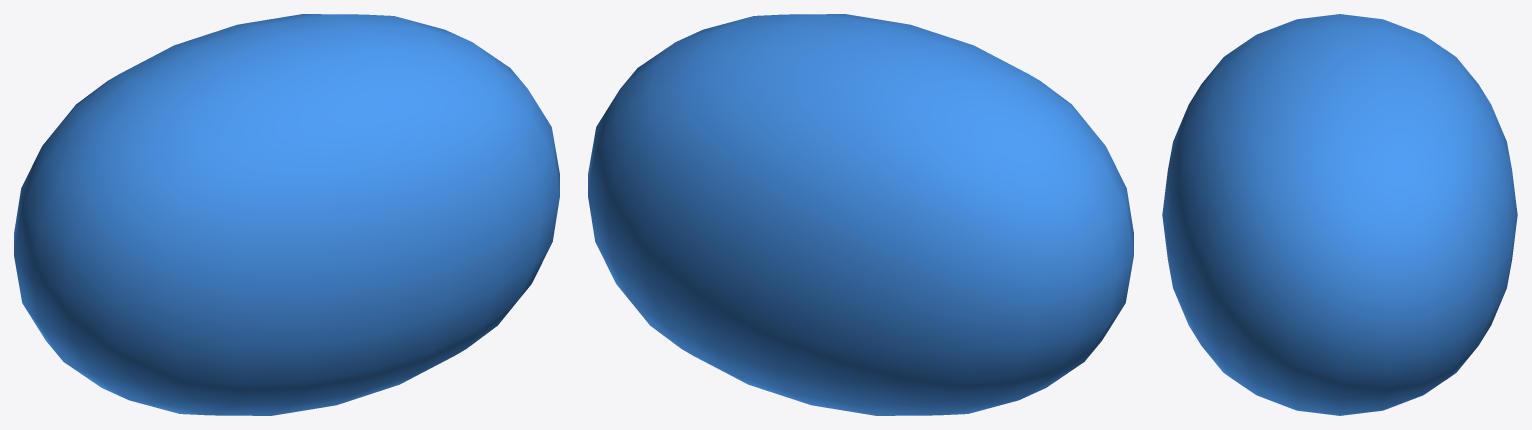
The model's file is Jellybean_02.fbx.
3 views of the same model, side by side, from view 1: azimuth 30°, elevation 25°; view 2: azimuth 150°, elevation 25°; view 3: azimuth 270°, elevation 25° (orthographic). The views are drawn at different scales.
Parts seen in each view (by area): view 1: Jellybean_02_LOD0; view 2: Jellybean_02_LOD0; view 3: Jellybean_02_LOD0.
Boxes of the visible parts, x1,y1,x2,y2 form: Jellybean_02_LOD0: (14,14,559,415); Jellybean_02_LOD0: (588,14,1133,415); Jellybean_02_LOD0: (1162,14,1517,415).
Size of what is drawn, in the model's own units: 313 by 206 by 206.
